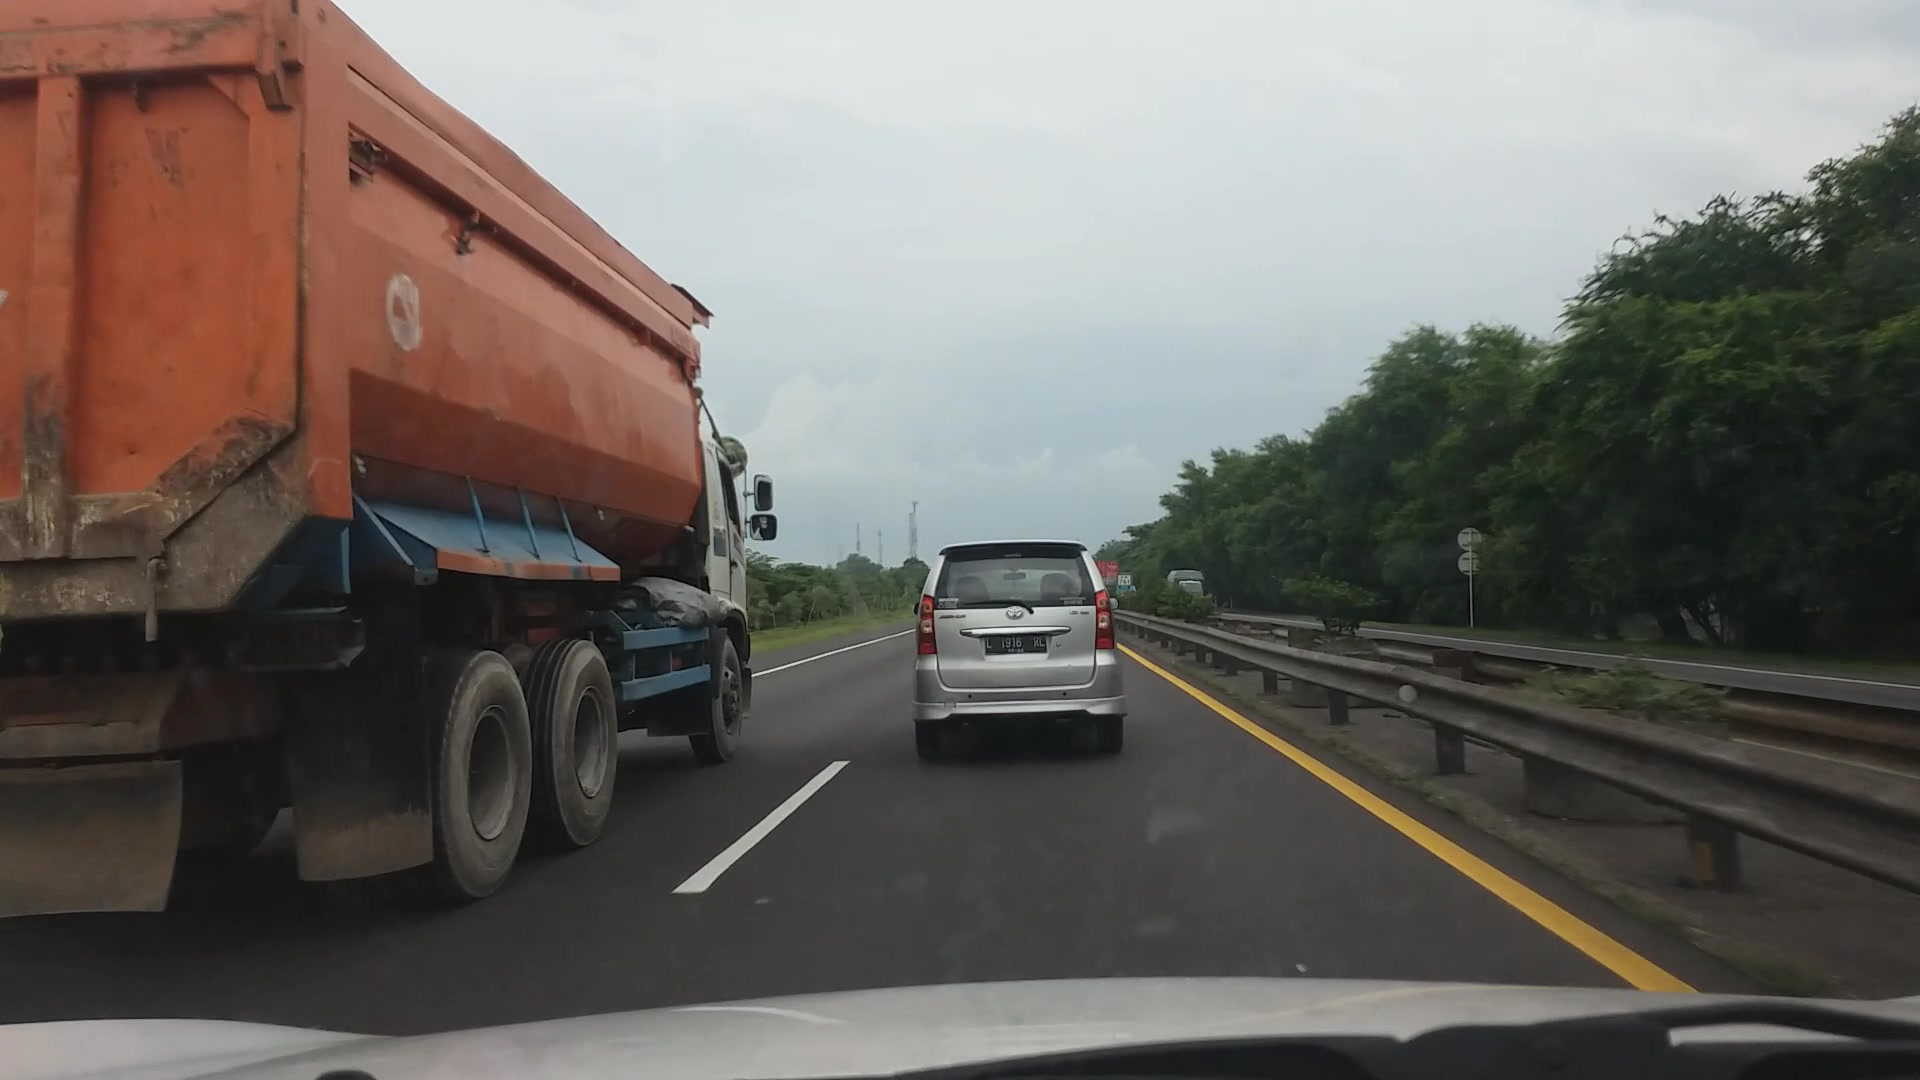plate_positive: (984, 633, 1047, 654)
